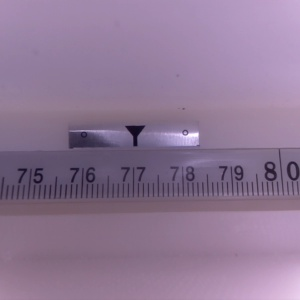0: (285, 161, 300, 181)
5: (32, 168, 43, 184)
6: (85, 167, 95, 183)
7: (15, 168, 27, 184), (68, 168, 79, 184), (119, 166, 129, 182), (135, 166, 145, 182), (168, 166, 178, 181), (217, 166, 227, 181)
8: (263, 161, 276, 181), (184, 166, 194, 181)
9: (233, 166, 243, 181)
finger: (124, 126, 146, 147)
